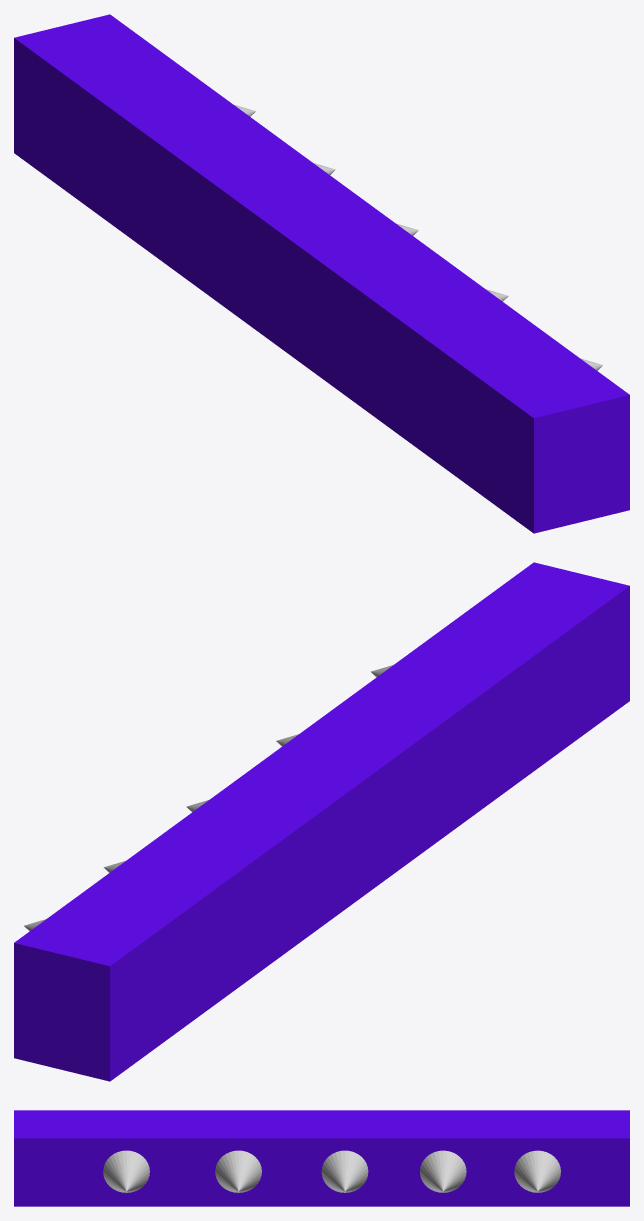
File: block.fbx
The picture shows the model from 3 angles, top to bottom: view 1: azimuth 30°, elevation 25°; view 2: azimuth 150°, elevation 25°; view 3: azimuth 270°, elevation 25°; orthographic projection. The views are drawn at different scales.
Visible parts, largest first — view 1: block; view 2: block; view 3: block.
Part boxes in pixels (x1,y1,x2,y2): block: (14, 14, 629, 533); block: (14, 562, 629, 1081); block: (14, 1110, 629, 1206).
Size of the model in its own units: 60.04 by 40.21 by 329.
